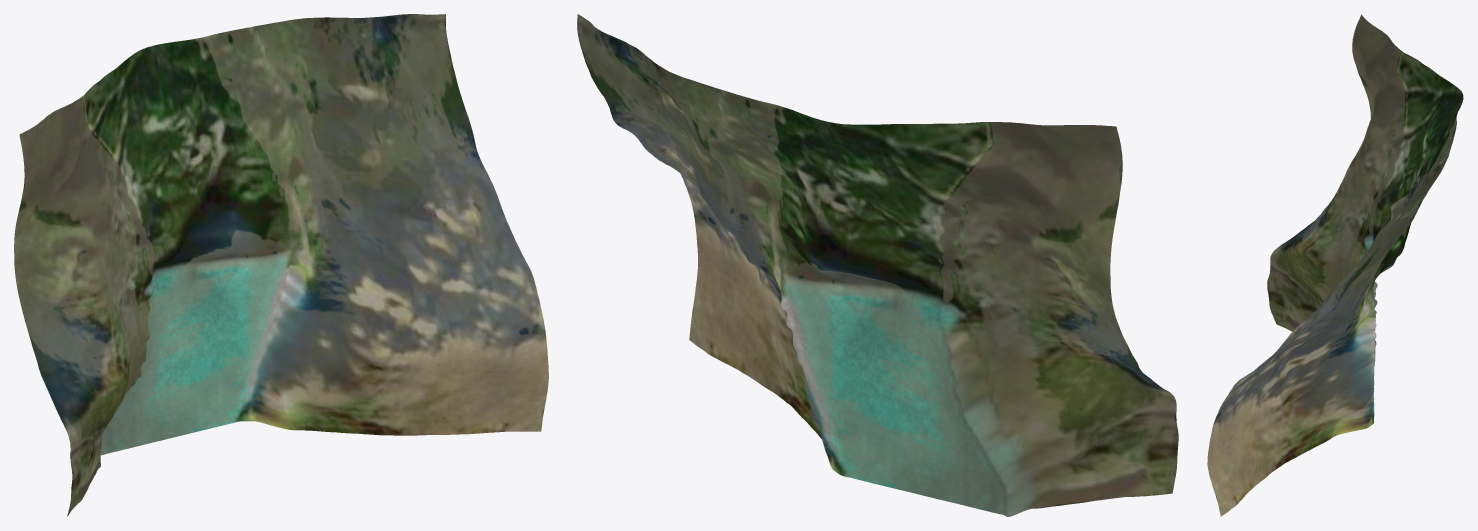
File: dixence-t1.glb
3 views of the same model, side by side, from view 1: azimuth 30°, elevation 25°; view 2: azimuth 150°, elevation 25°; view 3: azimuth 270°, elevation 25° (orthographic). The views are drawn at different scales.
Visible parts, largest first — view 1: RealTerrain; view 2: RealTerrain; view 3: RealTerrain.
Part boxes in pixels (<box>): RealTerrain: <box>14,14,548,516</box>; RealTerrain: <box>577,14,1178,516</box>; RealTerrain: <box>1207,14,1463,516</box>.
Bounding box in the file's own units: 2000 × 1500 × 1122.
Materials: 1 (1 with a texture image).
